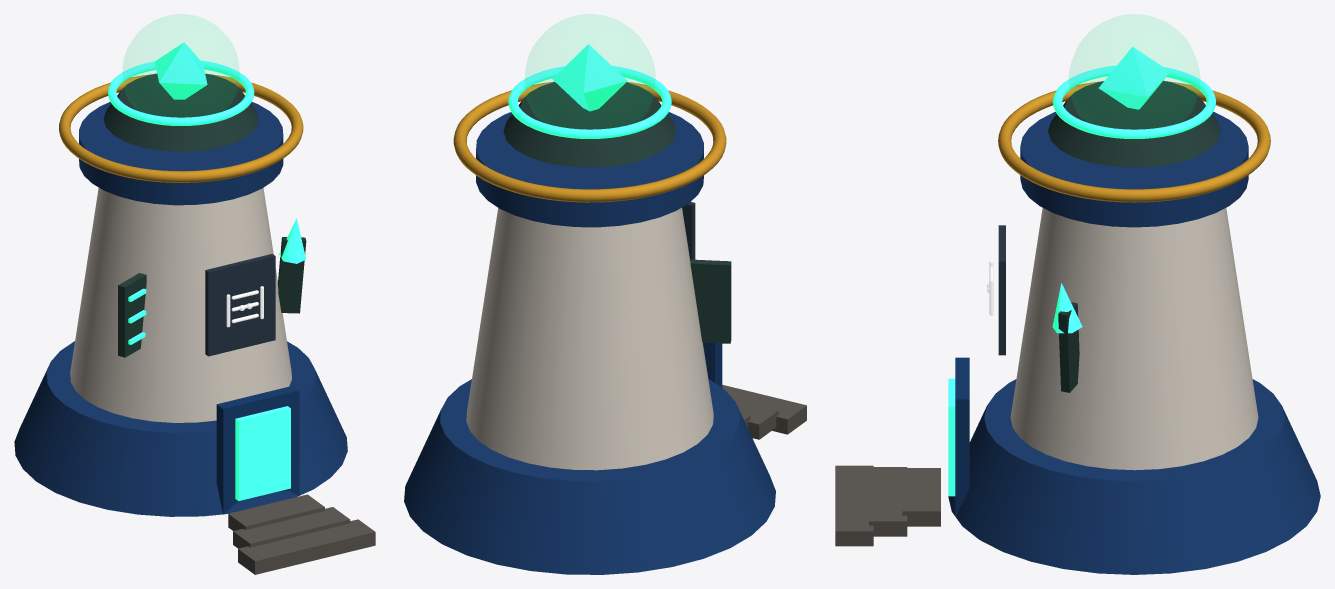
The model's file is island-05-parallel__tower.glb.
3 views of the same model, side by side, from view 1: azimuth 30°, elevation 25°; view 2: azimuth 150°, elevation 25°; view 3: azimuth 270°, elevation 25° (orthographic). The views are drawn at different scales.
Visible parts, largest first — view 1: I05_TOWER, object 9, object 13, object 14; view 2: I05_TOWER, object 9; view 3: I05_TOWER, object 13, object 14.
Boxes of the visible parts, x1=… form: I05_TOWER: x1=14, y1=14, x2=375, y2=574; object 9: x1=118, y1=273, x2=146, y2=357; object 13: x1=278, y1=237, x2=306, y2=313; object 14: x1=279, y1=218, x2=306, y2=263; I05_TOWER: x1=404, y1=14, x2=806, y2=574; object 9: x1=690, y1=259, x2=731, y2=343; I05_TOWER: x1=835, y1=14, x2=1320, y2=574; object 13: x1=1058, y1=302, x2=1079, y2=392; object 14: x1=1052, y1=283, x2=1082, y2=333.
Size of the model in its own units: 3.1 by 4.53 by 4.04.
